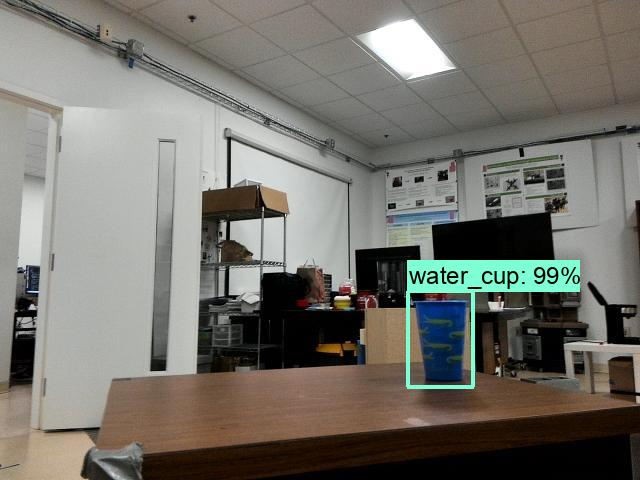water_cup: (408, 293, 473, 385)
